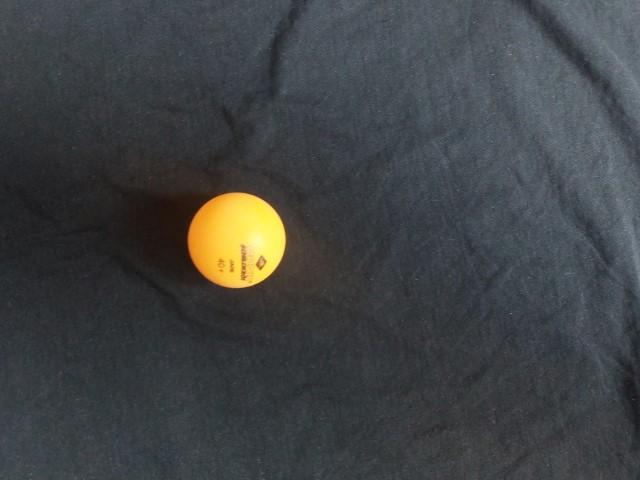oball: (347, 187, 456, 294)
